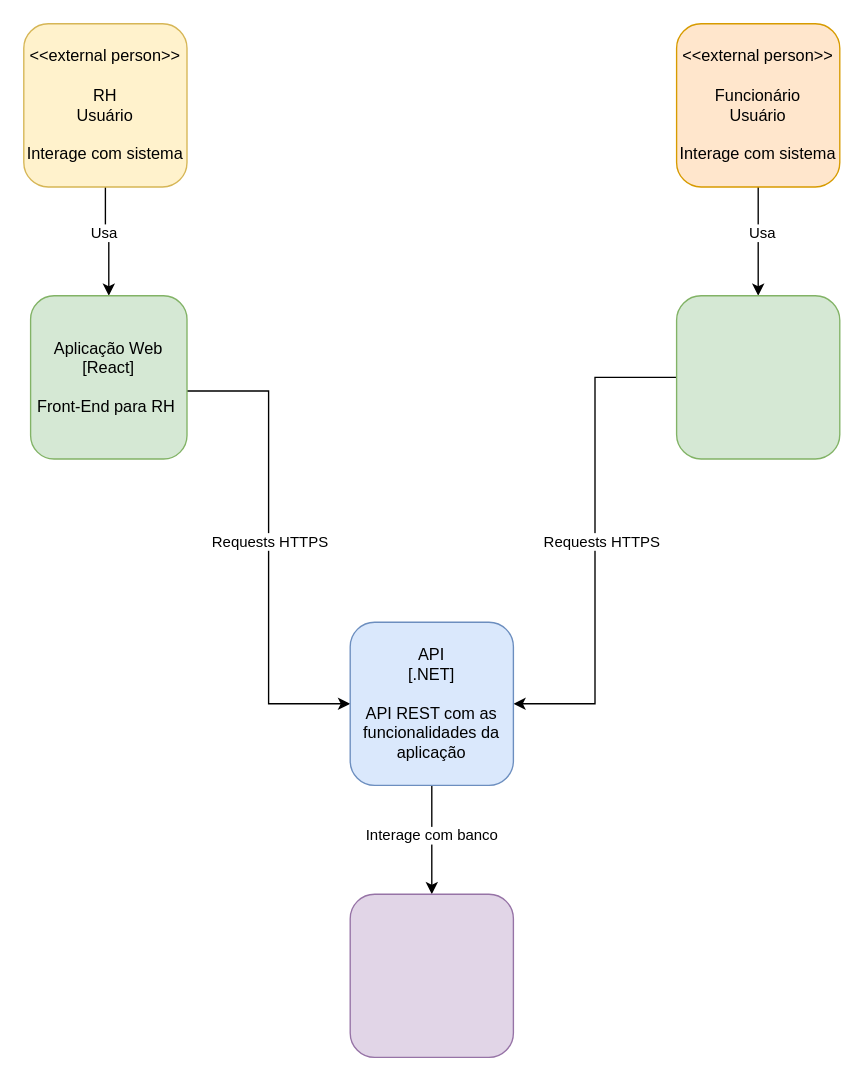
Image size: 864x1081. Some labels were removed from this diagram. Here are the shapes that lost their labels. From the top down, the box of each, then its label:
(675, 294, 840, 459): Aplicação Mobile [React Native] Front-End para funcionário
(349, 893, 513, 1057): DB/SQL [PostgresSQL] Guarda dados da aplicação
